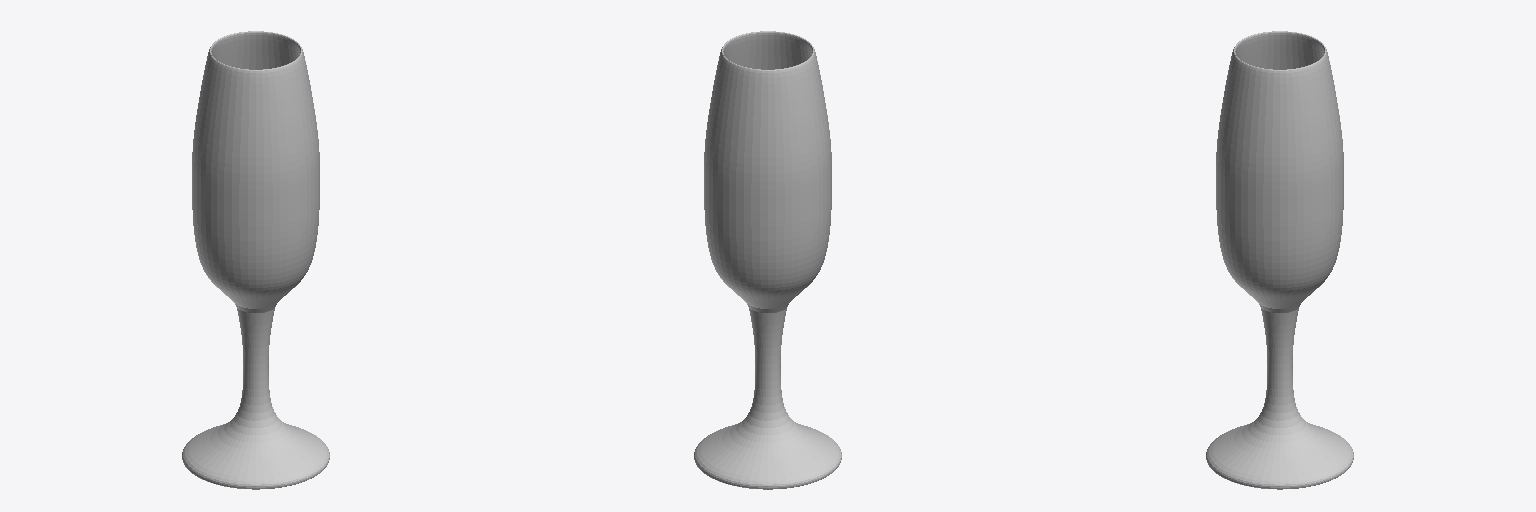
Rendered from glass2.obj.
3 views of the same model, side by side, from view 1: azimuth 30°, elevation 25°; view 2: azimuth 150°, elevation 25°; view 3: azimuth 270°, elevation 25° (orthographic).
Parts seen in each view (by area): view 1: 2; view 2: 2; view 3: 2.
Boxes of the visible parts, <box> form: 2: <box>182,31,329,489</box>; 2: <box>694,31,841,489</box>; 2: <box>1206,31,1353,489</box>.
Bounding box in the file's own units: 0.6854 × 2.1 × 0.6854.